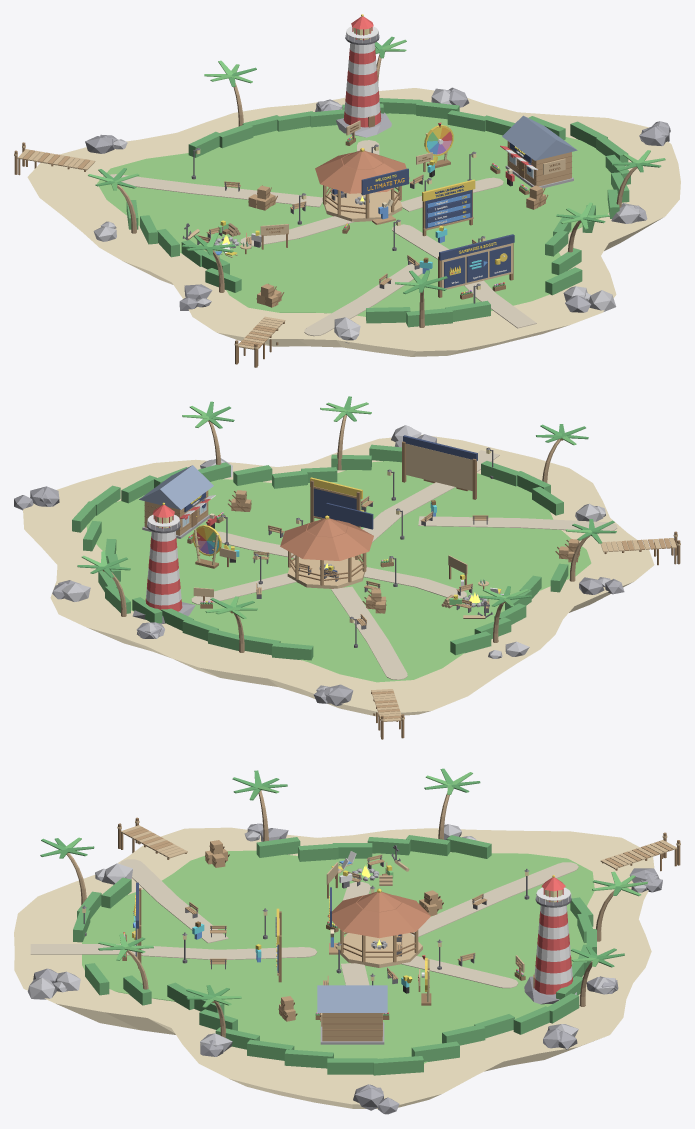
Rendered from UltimateTagLobby.fbx.
3 views of the same model, one above another, from view 1: azimuth 30°, elevation 25°; view 2: azimuth 150°, elevation 25°; view 3: azimuth 270°, elevation 25° (orthographic). The views are drawn at different scales.
Visible parts, largest first — view 1: IslandGrass, IslandSand, Gazebo_RoofLower, AvatarShop_Roof, Gazebo_Floor, AvatarShop_Walls, PathDockNorth_1, PathMain_1, PathDockWest_1, PathDockWest_2, Gazebo_WelcomeSign_Board, PathDockNorth_2 (+18 smaller); view 2: IslandGrass, IslandSand, Gazebo_RoofLower, GamepassBoard_Board, AvatarShop_Roof, Gazebo_Floor, PathDockNorth_1, PathDockWest_1, PathMain_2, Gazebo_WelcomeSign_Board, PathDockNorth_2, Leaderboard_Board (+15 smaller); view 3: IslandGrass, IslandSand, Gazebo_RoofLower, AvatarShop_Roof, AvatarShop_Walls, Gazebo_Floor, PathDockNorth_1, PathDockWest_1, PathDockNorth_2, PathMain_1, Hedge2, PathDockWest_2 (+24 smaller).
Part boxes in pixels (x1,y1,x2,y2): IslandGrass: (97,113,613,322); IslandSand: (27,88,680,356); Gazebo_RoofLower: (315,152,409,193); AvatarShop_Roof: (502,115,577,160); Gazebo_Floor: (322,190,402,221); AvatarShop_Walls: (507,141,571,186); PathDockNorth_1: (191,184,322,207); PathMain_1: (476,293,536,328); PathDockWest_1: (357,264,422,304); PathDockWest_2: (306,298,375,333); Gazebo_WelcomeSign_Board: (361,168,408,195); PathDockNorth_2: (121,175,196,193); IslandGrass: (86,461,591,682); IslandSand: (23,434,654,716); Gazebo_RoofLower: (280,520,373,560); GamepassBoard_Board: (405,443,472,490); AvatarShop_Roof: (139,465,213,509); Gazebo_Floor: (287,557,366,588); PathDockNorth_1: (331,586,388,642); PathDockWest_1: (418,516,521,527); PathMain_2: (383,482,455,516); Gazebo_WelcomeSign_Board: (326,503,373,529); PathDockNorth_2: (367,640,407,676); Leaderboard_Board: (313,488,356,525); IslandGrass: (82,850,594,1063); IslandSand: (14,827,654,1108); Gazebo_RoofLower: (327,895,430,938); AvatarShop_Roof: (317,985,387,1012); AvatarShop_Walls: (322,1013,382,1041); Gazebo_Floor: (335,933,422,967); PathDockNorth_1: (410,889,511,936); PathDockWest_1: (158,897,228,943); PathDockNorth_2: (495,864,574,896); PathMain_1: (30,944,117,954); Hedge2: (372,1056,423,1075); PathDockWest_2: (124,862,178,901).
Size of what is drawn, in the model's own units: 20137 by 4820 by 19895.
